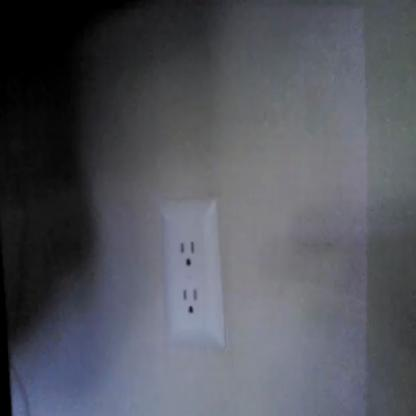OUTLET: (160, 201, 226, 351)
